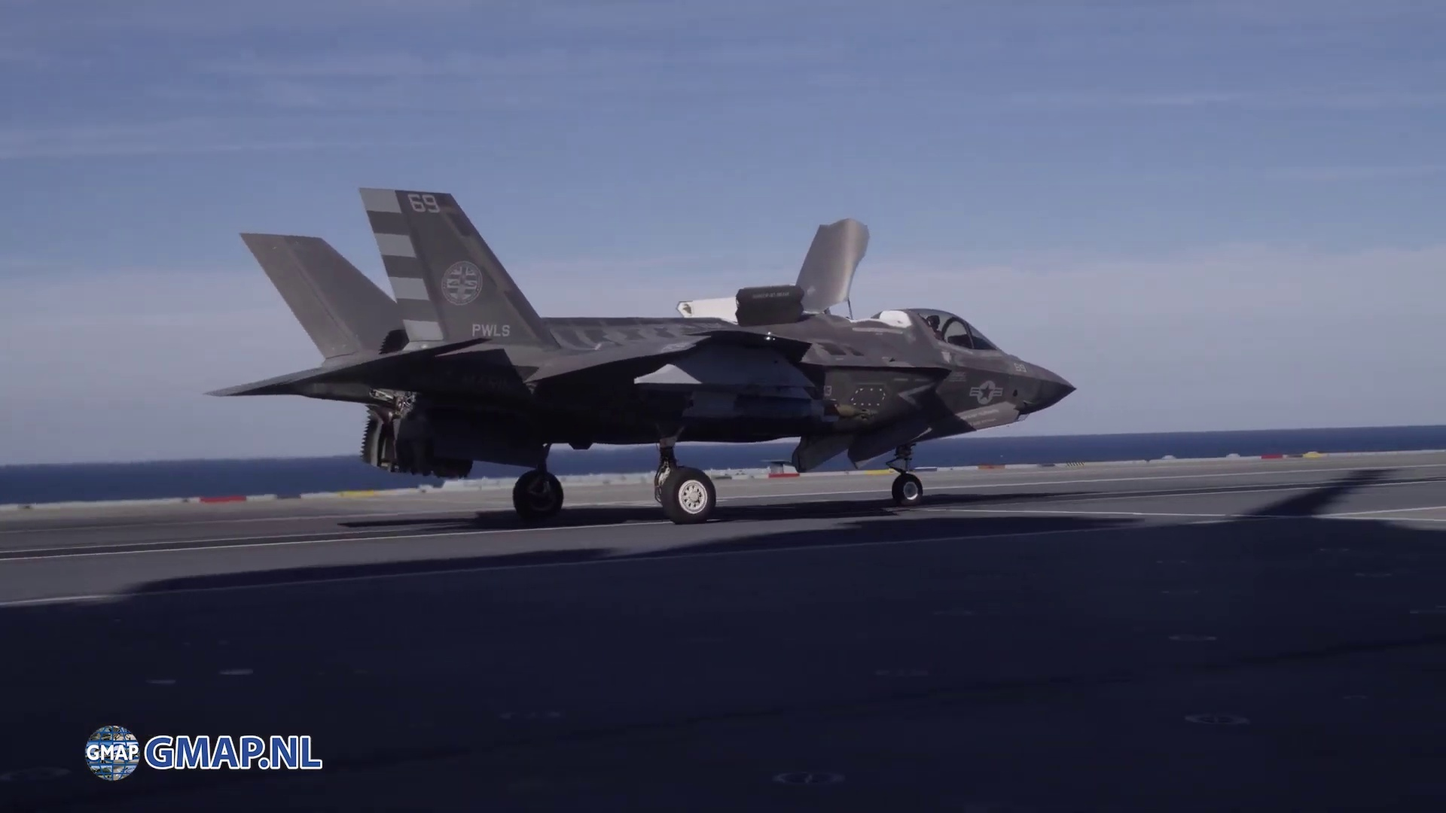F35: (190, 176, 1083, 535)
